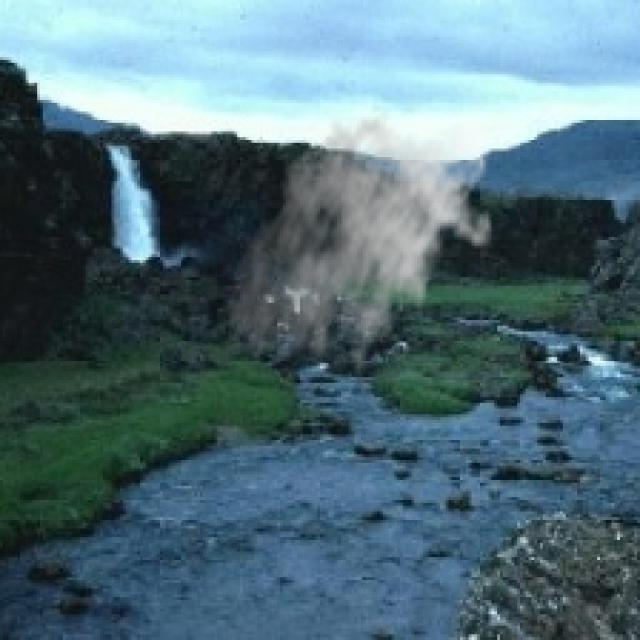Smoke: (226, 106, 494, 386)
